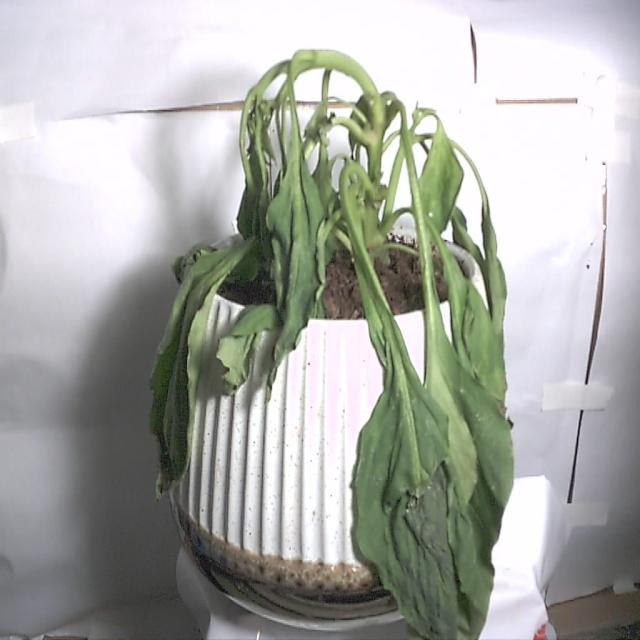Leaf: (355, 316, 471, 634), (146, 244, 250, 490), (265, 146, 325, 402)
